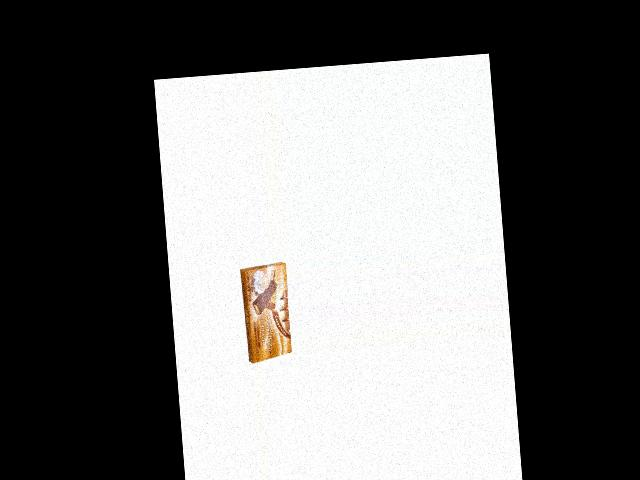chocolate: (239, 261, 294, 365)
